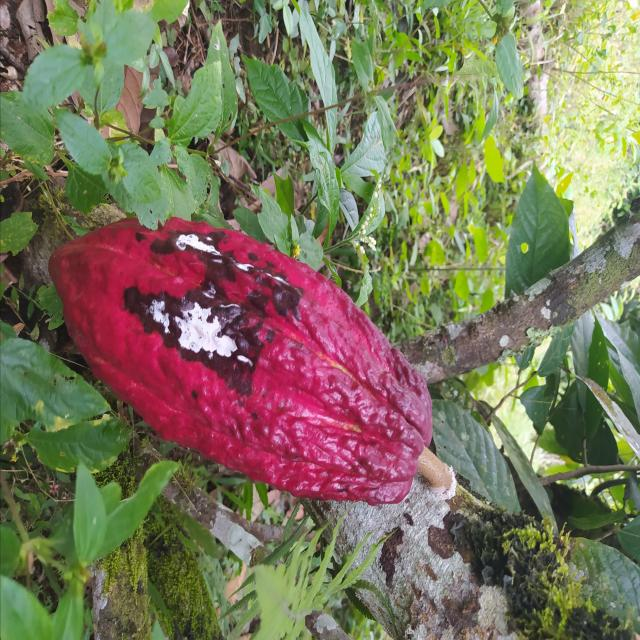Monilia: (45, 219, 435, 508)
